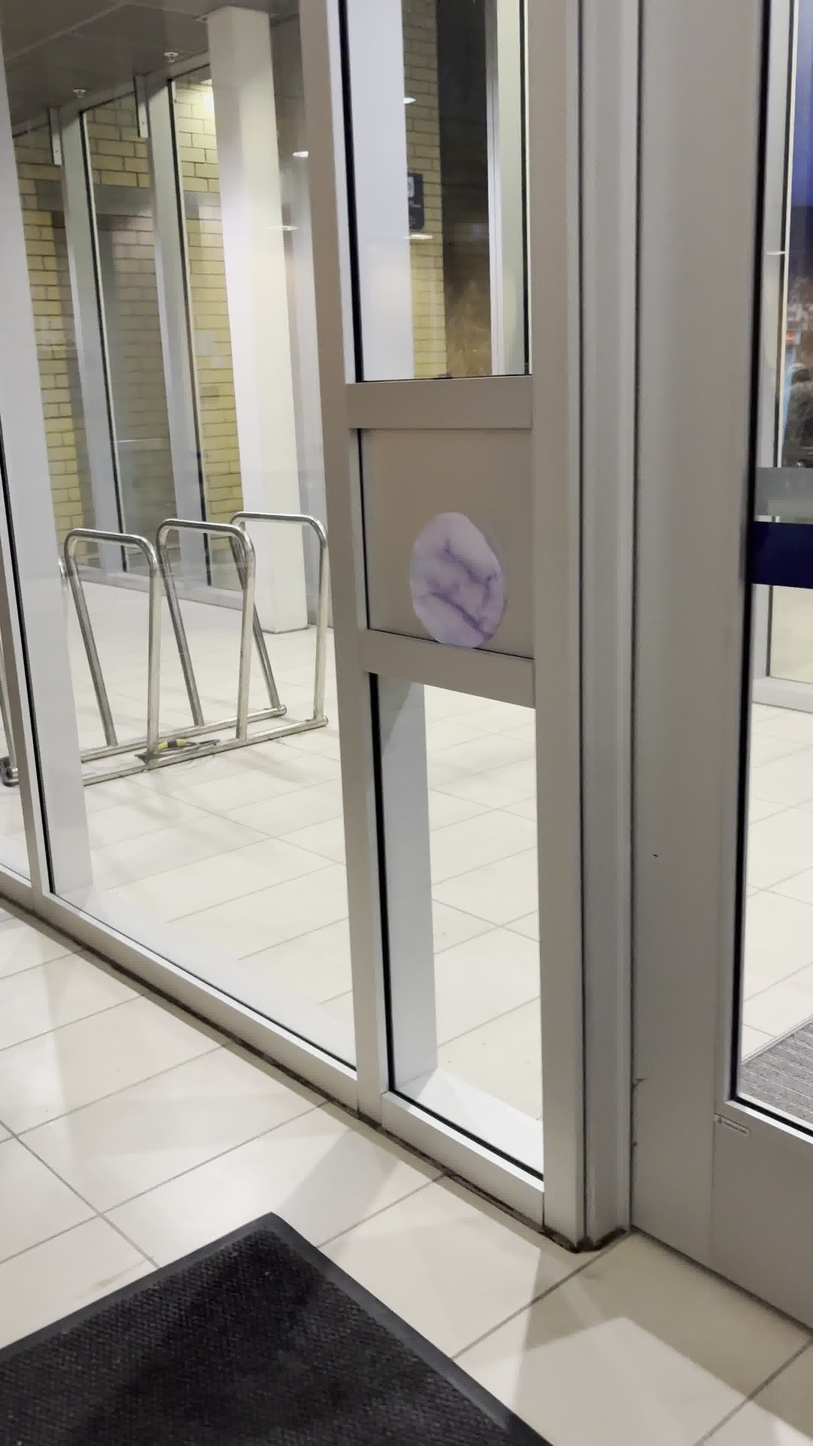Target: (398, 506, 511, 650)
